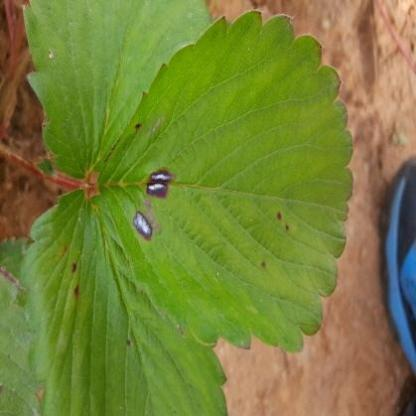Strawberry_Leaf_Spot: (86, 12, 355, 352), (19, 189, 228, 415)
